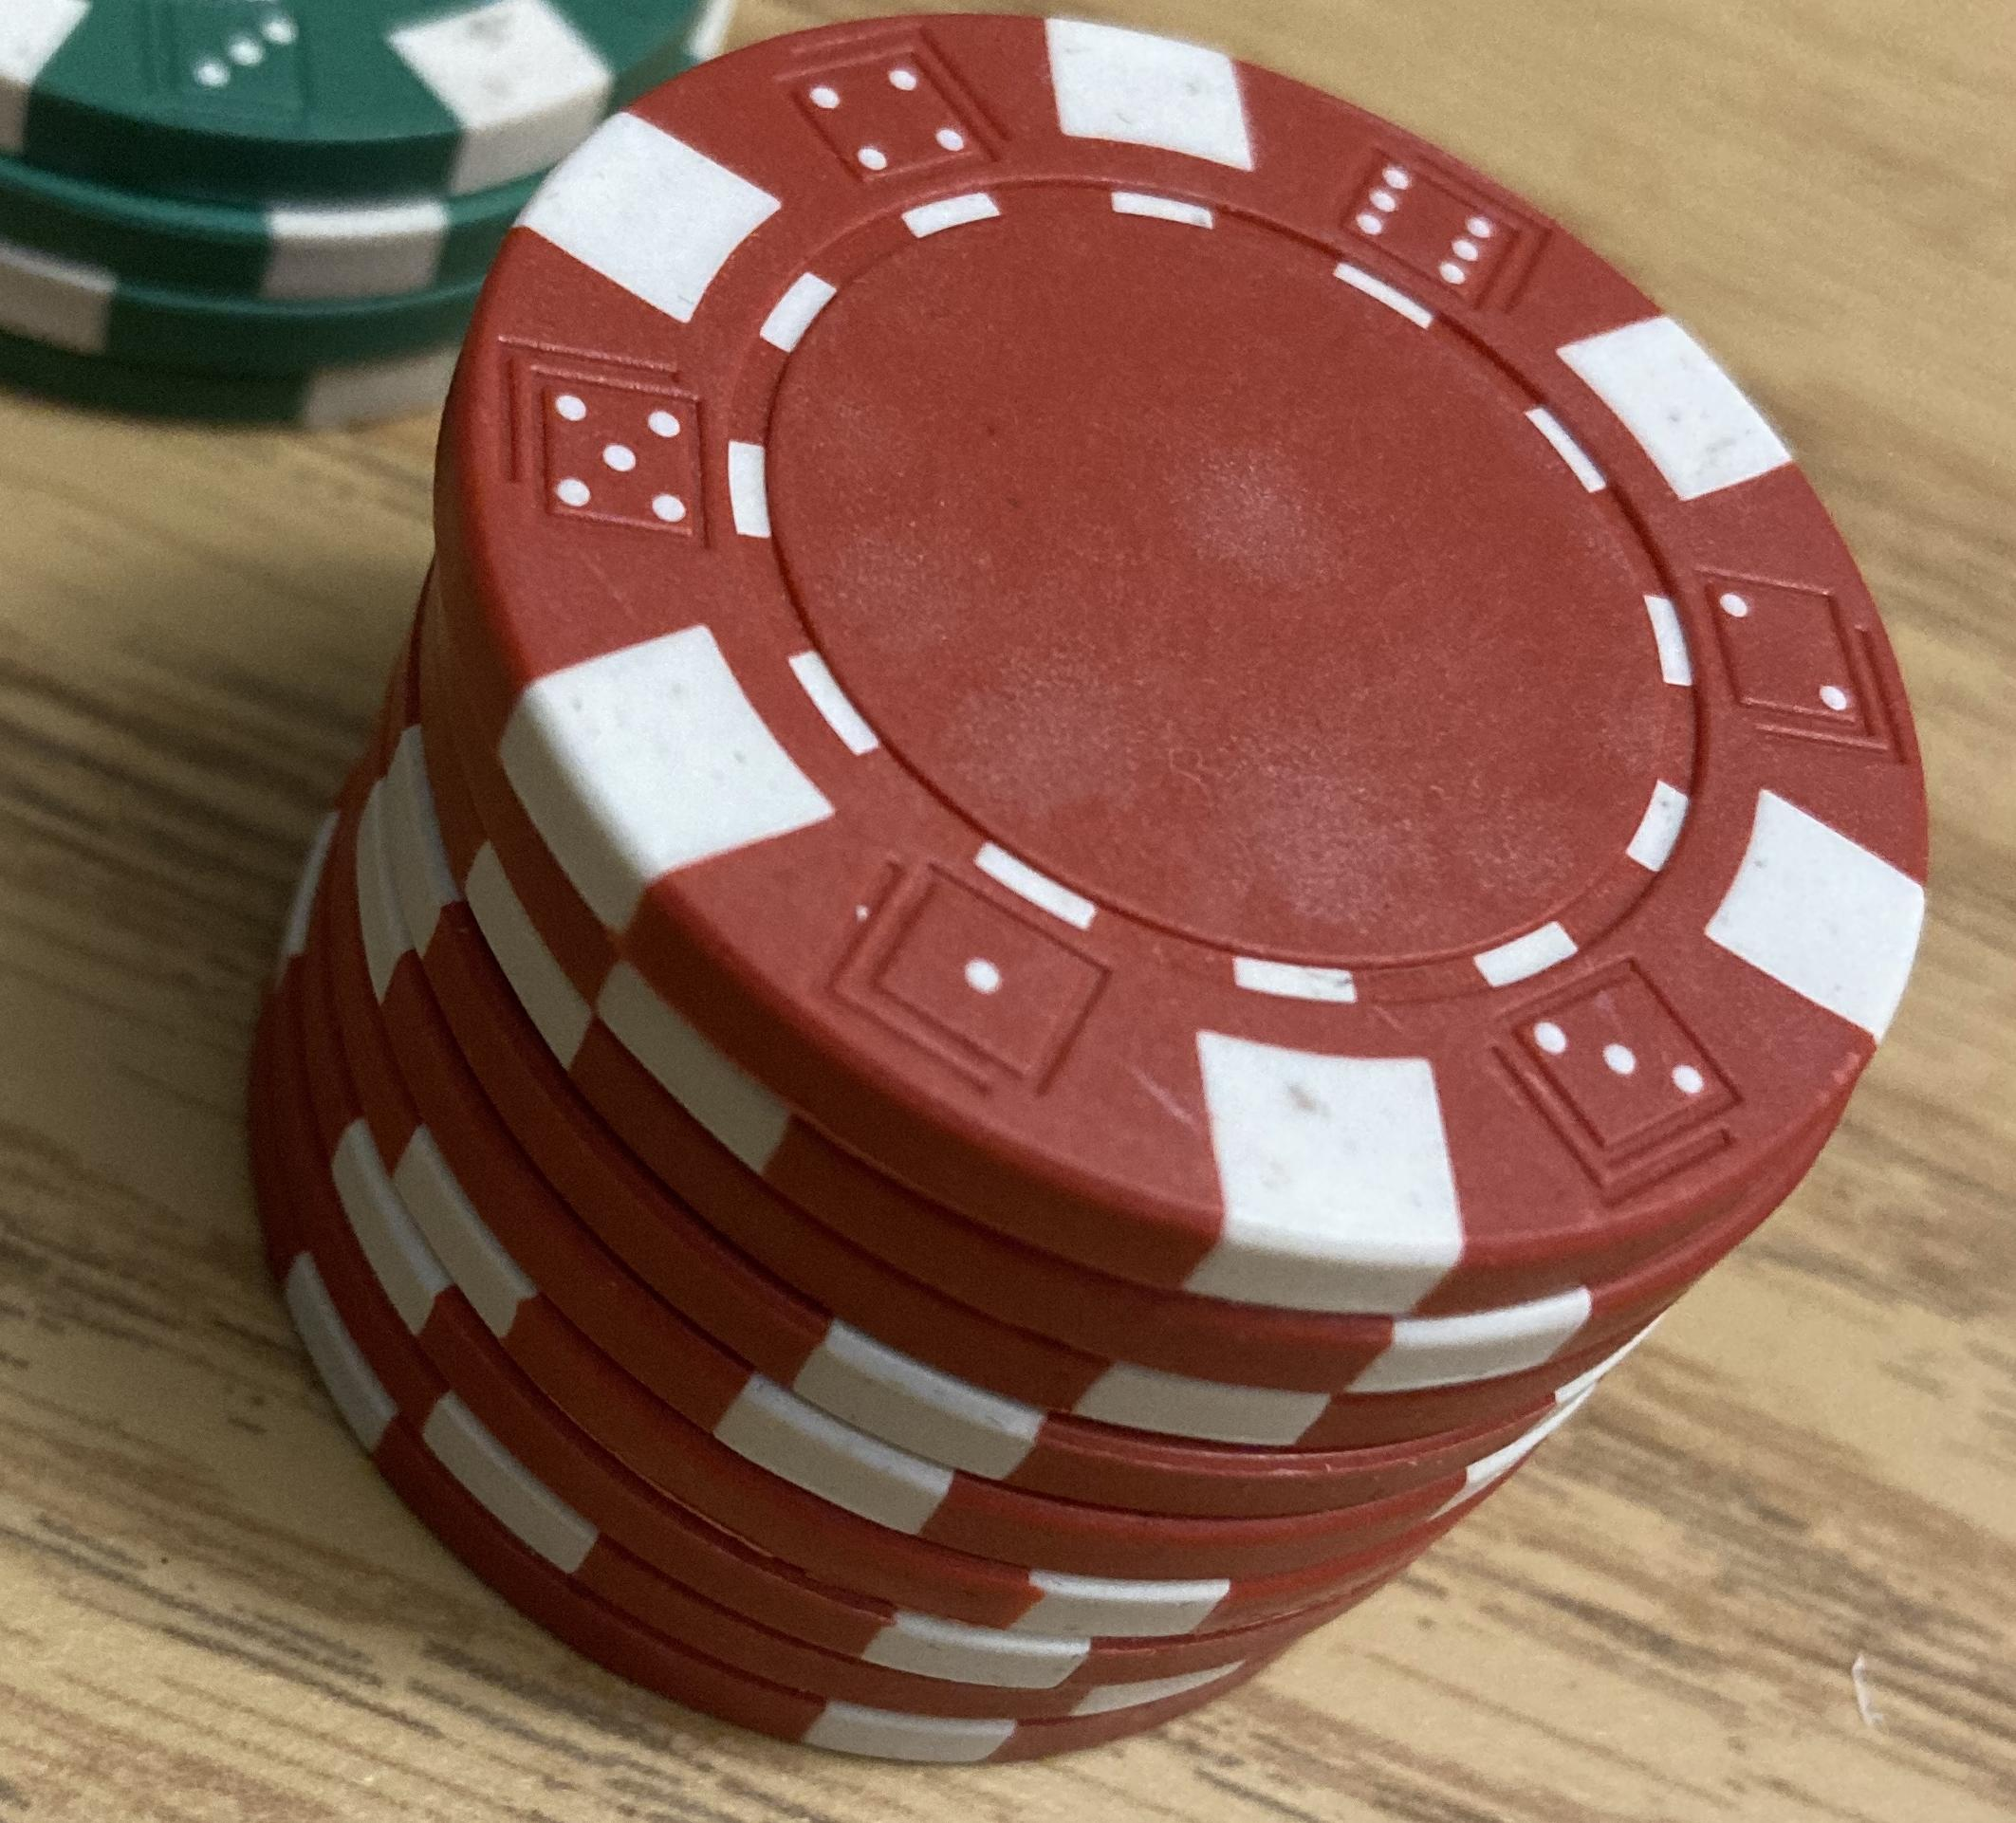Chip: (2, 2, 2016, 1823)
